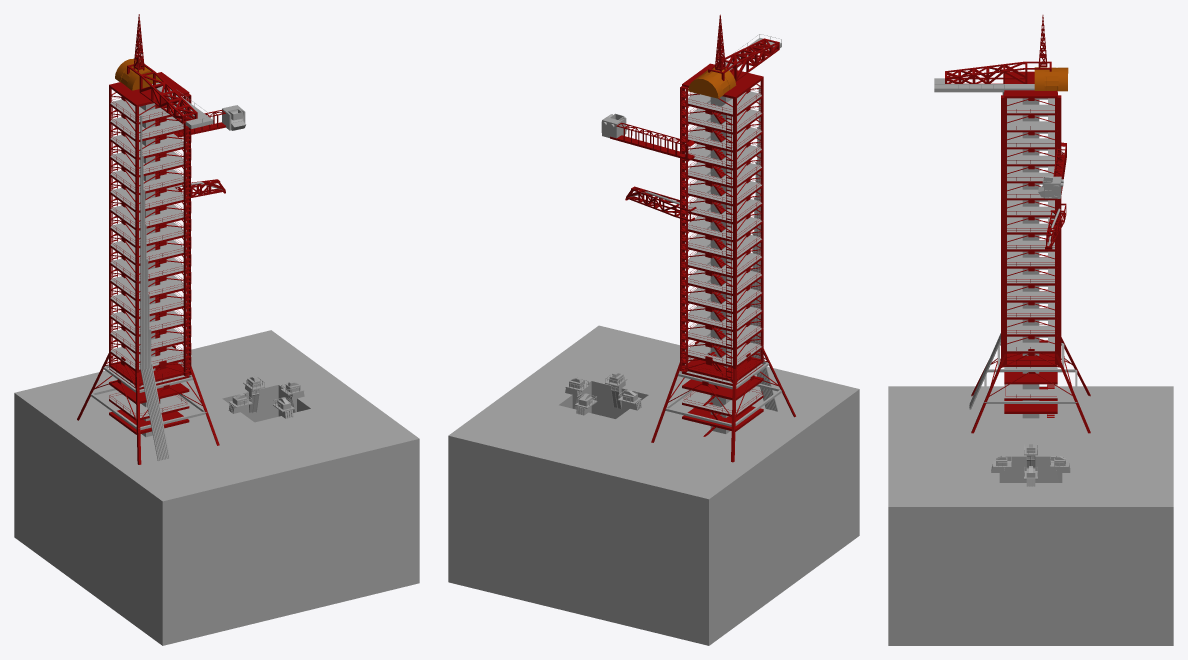
Rendered from ApolloLaunchpad.fbx.
The picture shows the model from 3 angles, left to right: view 1: azimuth 30°, elevation 25°; view 2: azimuth 150°, elevation 25°; view 3: azimuth 270°, elevation 25°; orthographic projection. The views are drawn at different scales.
Visible parts, largest first — view 1: Platform, polySurface1; view 2: Platform, polySurface1, Arm, SmallArm; view 3: Platform, polySurface1, Arm_Head, SmallArm.
Boxes of the visible parts, <box> form: Platform: <box>14,330,419,645</box>; polySurface1: <box>77,14,219,464</box>; Platform: <box>448,325,859,645</box>; polySurface1: <box>651,14,795,462</box>; Arm: <box>610,122,694,160</box>; SmallArm: <box>625,186,696,221</box>; Platform: <box>888,386,1173,645</box>; polySurface1: <box>934,15,1090,433</box>; Arm_Head: <box>1038,176,1061,198</box>; SmallArm: <box>1045,203,1066,249</box>.
Size of the model in its own units: 17.08 by 35.5 by 17.08.
